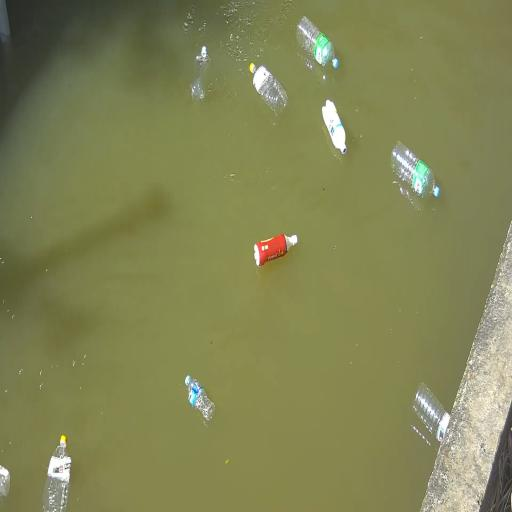plastic: (391, 141, 439, 197), (414, 383, 450, 442), (43, 436, 71, 511), (297, 17, 338, 68), (250, 63, 287, 114), (185, 375, 215, 421), (254, 234, 297, 266), (322, 100, 346, 154), (191, 46, 210, 100), (0, 466, 10, 498)
